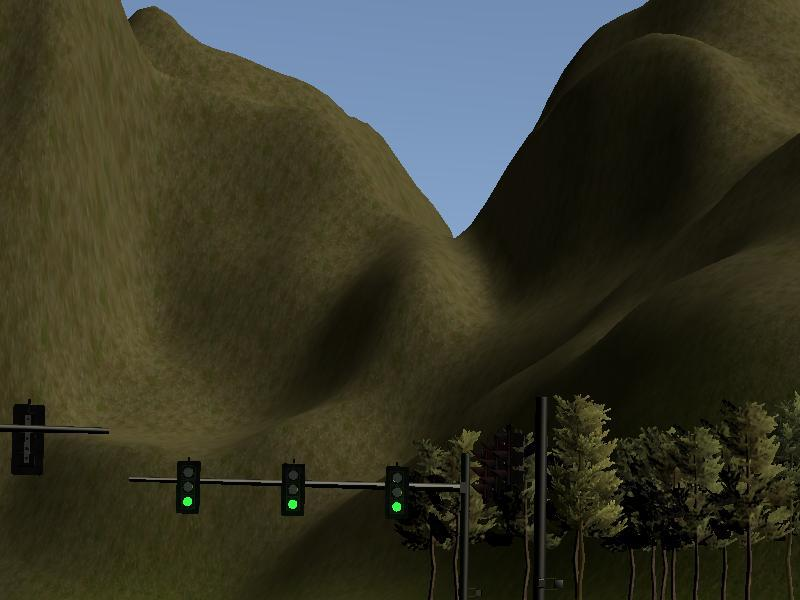Green: (176, 460, 200, 512), (281, 463, 305, 515), (386, 465, 410, 517)
